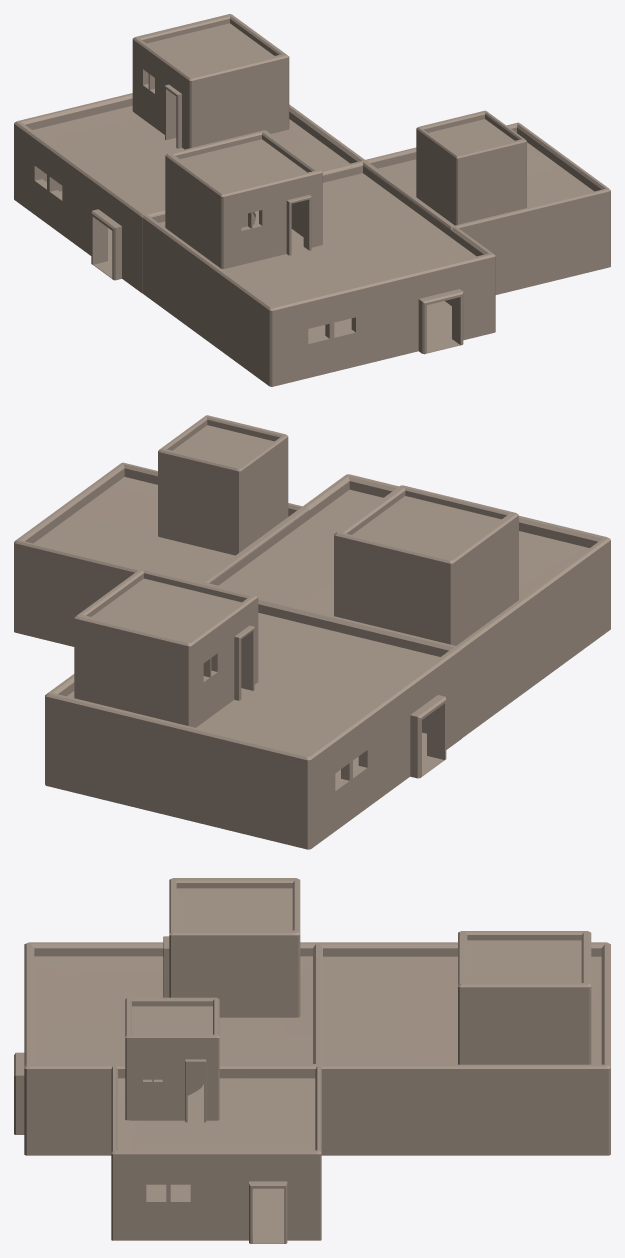
The model's file is hovel_3.fbx.
The picture shows the model from 3 angles, top to bottom: view 1: azimuth 30°, elevation 25°; view 2: azimuth 150°, elevation 25°; view 3: azimuth 270°, elevation 25°; orthographic projection. The views are drawn at different scales.
Visible parts, largest first — view 1: hovel_interior11; view 2: hovel_interior11; view 3: hovel_interior11.
Part boxes in pixels (x1,y1,x2,y2): hovel_interior11: (14,14,610,386); hovel_interior11: (14,415,610,849); hovel_interior11: (14,878,610,1243).
Size of the model in its own units: 41.6 by 14.31 by 48.07.
